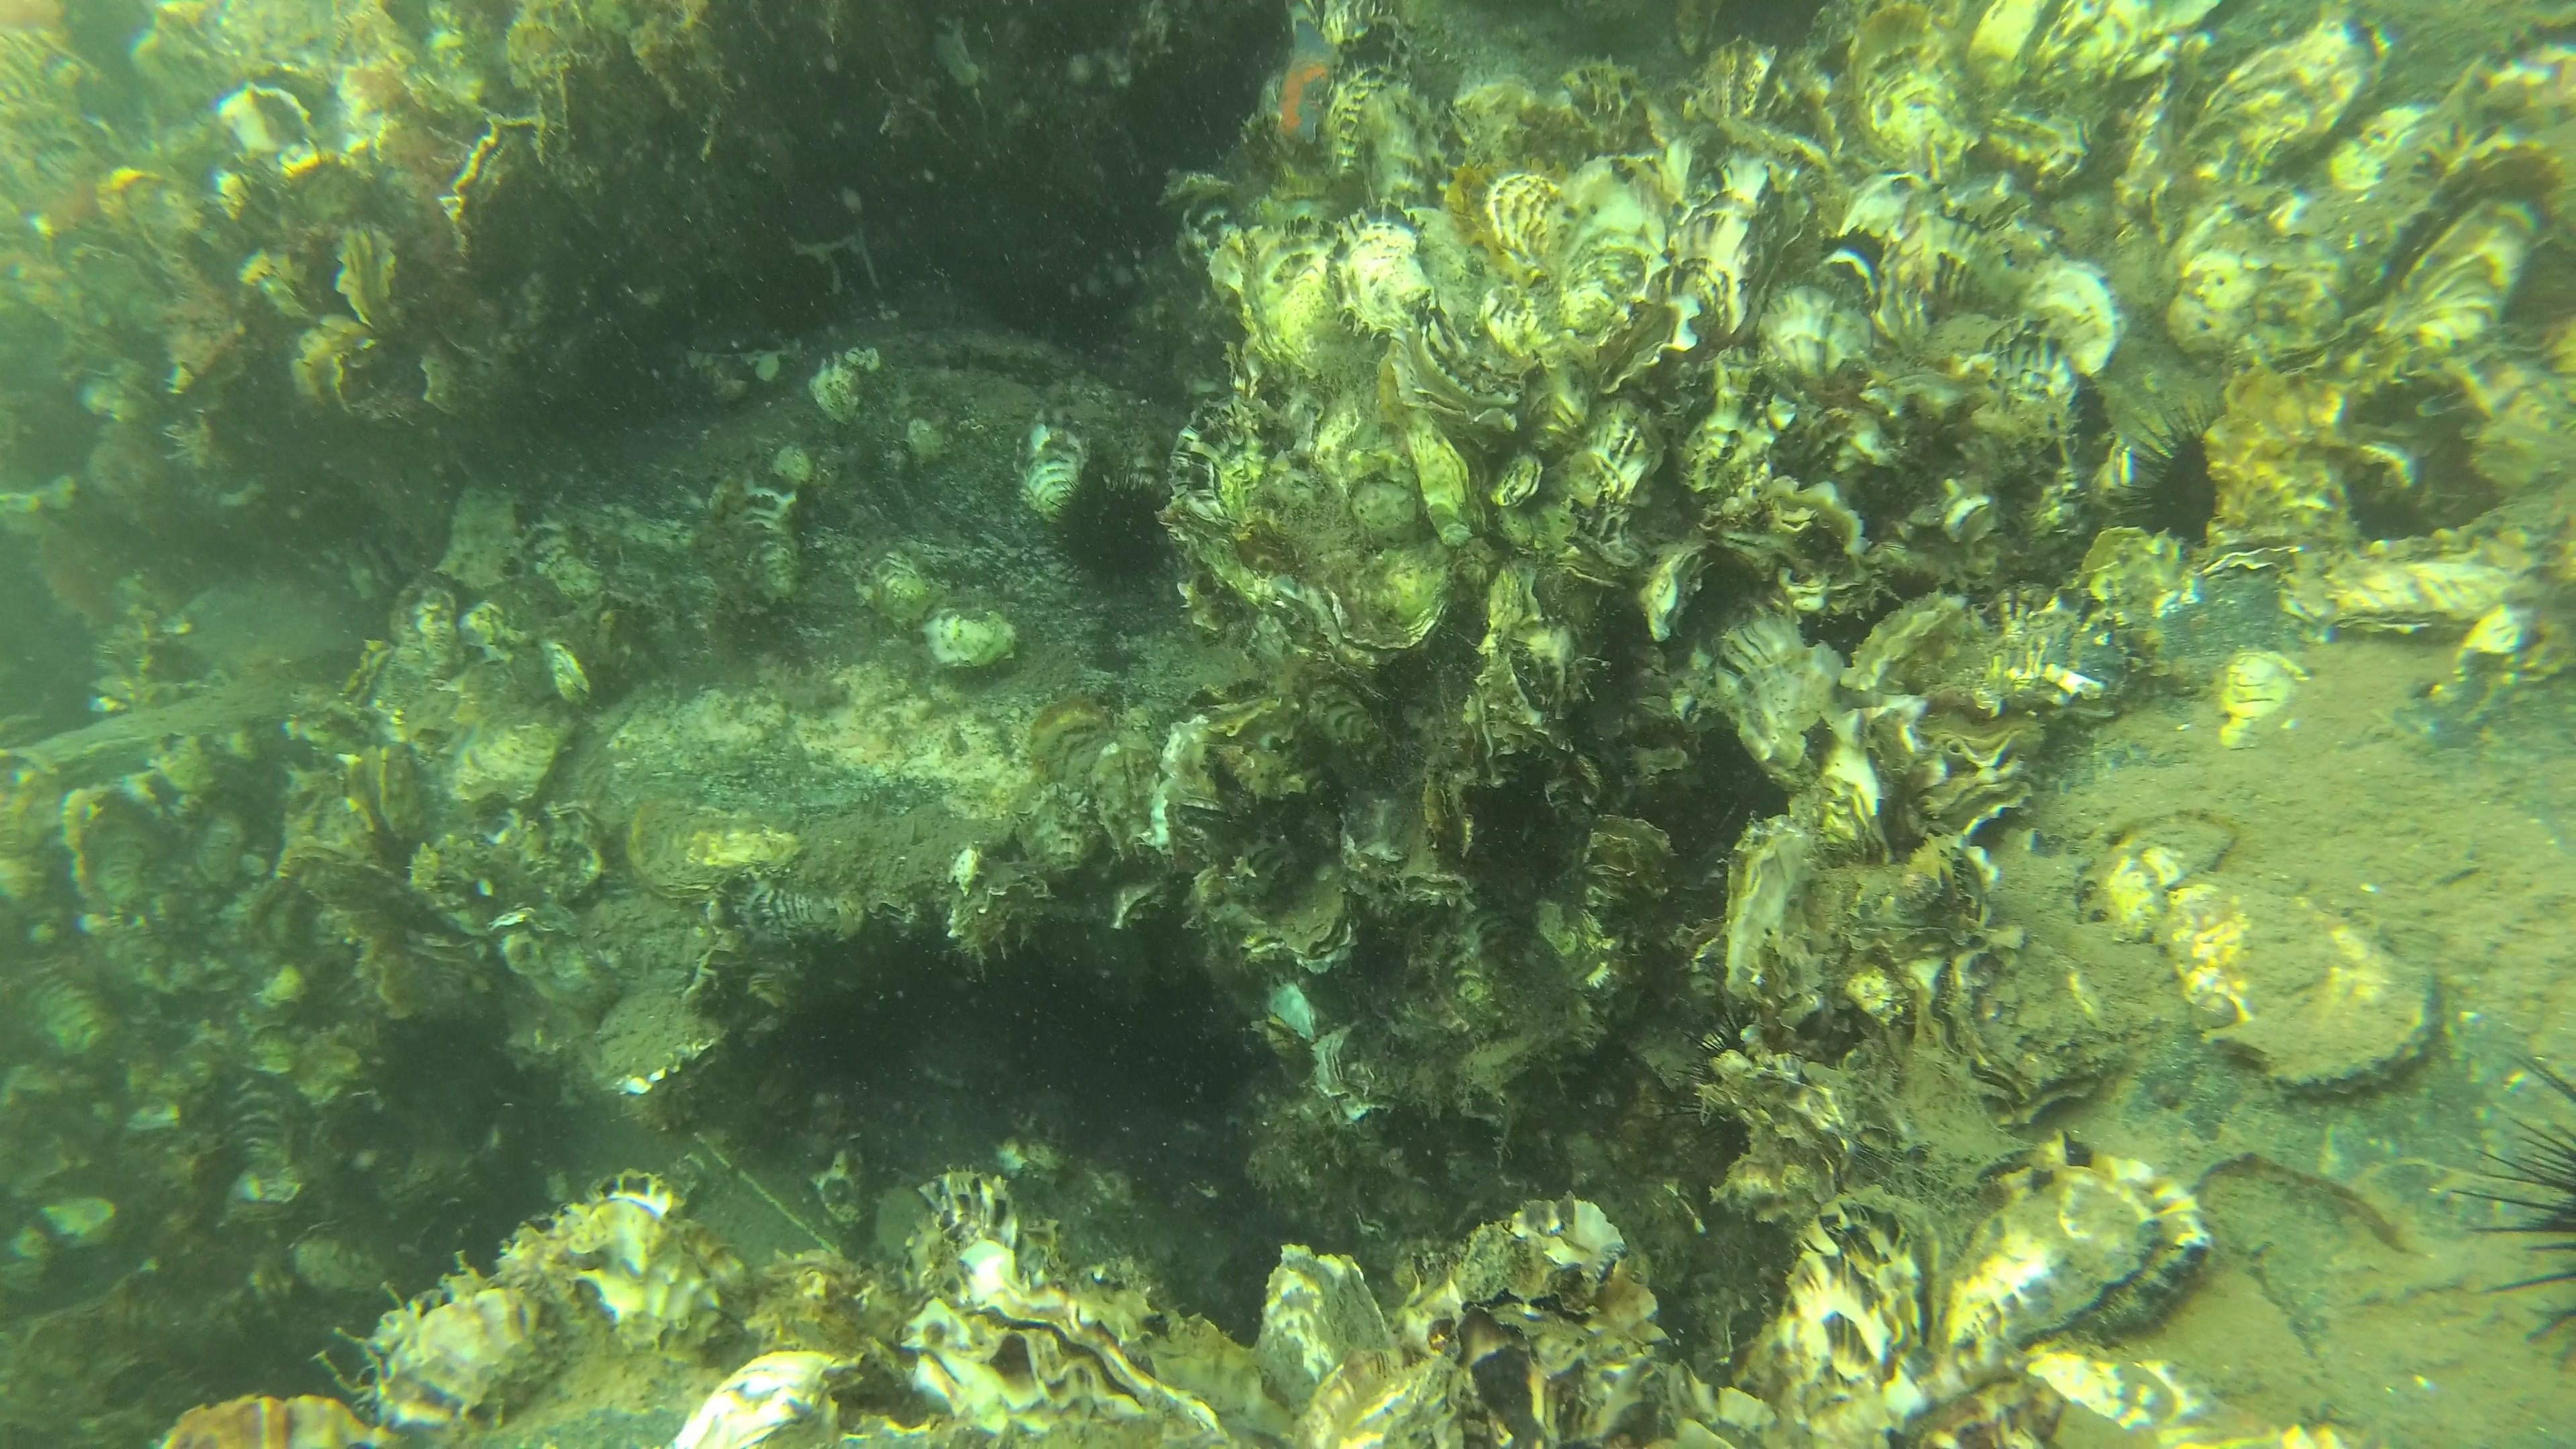echinus: (2449, 1053, 2576, 1348), (1044, 453, 1175, 598), (2116, 414, 2219, 556)
starfish: (1270, 18, 1343, 149)
